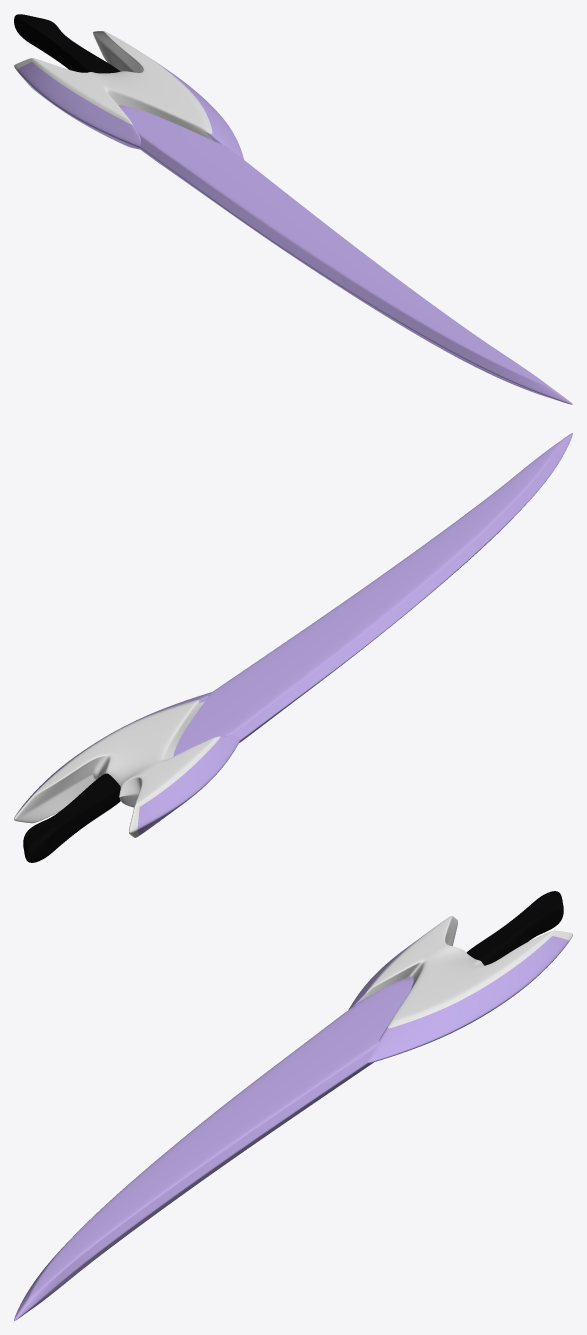
File: Sword04.fbx
3 renders of one model, top to bottom at view 1: azimuth 30°, elevation 25°; view 2: azimuth 150°, elevation 25°; view 3: azimuth 330°, elevation 25°, orthographic. The views are drawn at different scales.
Parts seen in each view (by area): view 1: Sowrd04; view 2: Sowrd04; view 3: Sowrd04.
Boxes of the visible parts, <box> form: Sowrd04: <box>14,14,572,404</box>; Sowrd04: <box>14,433,572,862</box>; Sowrd04: <box>14,891,572,1320</box>.
Bounding box in the file's own units: 0.4171 × 0.1051 × 3.24.
